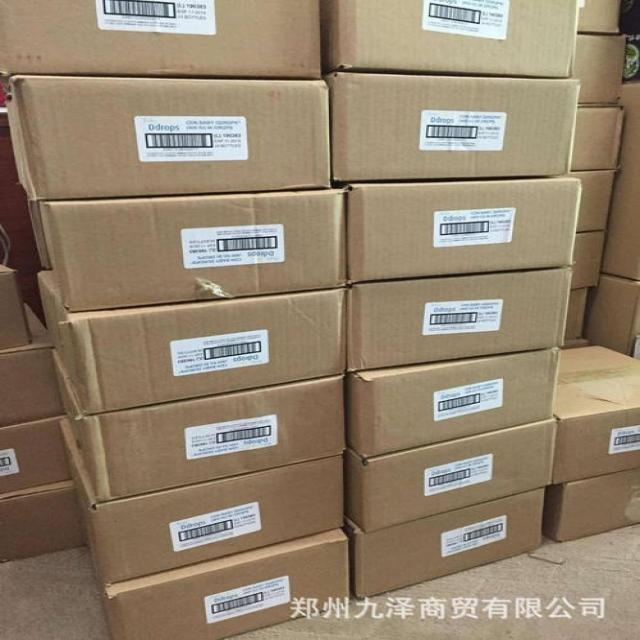box: (56, 419, 344, 584), (49, 350, 346, 501), (37, 271, 348, 415), (3, 76, 333, 202), (40, 188, 349, 312), (100, 528, 349, 640), (324, 72, 577, 181), (344, 176, 582, 284), (0, 1, 321, 79), (348, 346, 559, 459), (348, 418, 553, 533), (347, 269, 572, 372), (347, 486, 547, 599), (319, 0, 579, 80), (552, 345, 640, 485), (599, 81, 640, 281), (0, 303, 61, 427), (543, 466, 640, 543), (0, 479, 86, 561), (0, 415, 69, 495), (582, 273, 640, 357), (572, 34, 627, 105), (571, 103, 625, 173), (570, 170, 614, 232), (0, 264, 31, 349), (571, 231, 605, 292), (576, 0, 622, 36), (566, 287, 589, 348)
